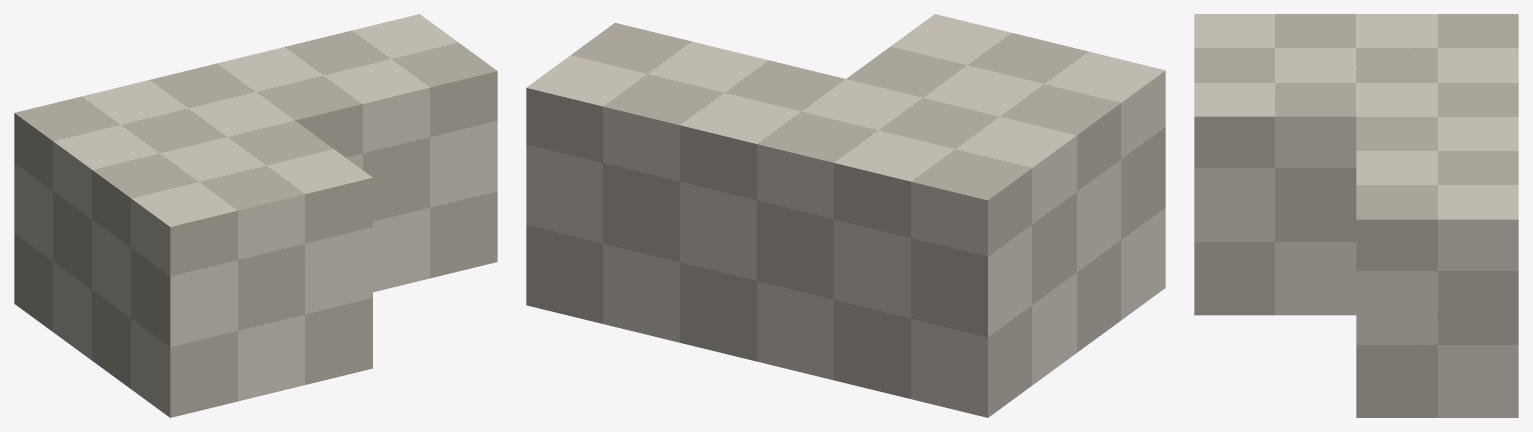
The picture shows the model from 3 angles, left to right: view 1: azimuth 30°, elevation 25°; view 2: azimuth 150°, elevation 25°; view 3: azimuth 270°, elevation 25°; orthographic projection. The views are drawn at different scales.
Visible parts, largest first — view 1: Floor 1; view 2: Floor 1; view 3: Floor 1.
Part boxes in pixels (x1=…): Floor 1: x1=14, y1=14, x2=497, y2=417; Floor 1: x1=526, y1=14, x2=1165, y2=417; Floor 1: x1=1194, y1=14, x2=1518, y2=417.
Bounding box in the file's own units: 6 × 2.7 × 4.
1 material, 1 textured.
